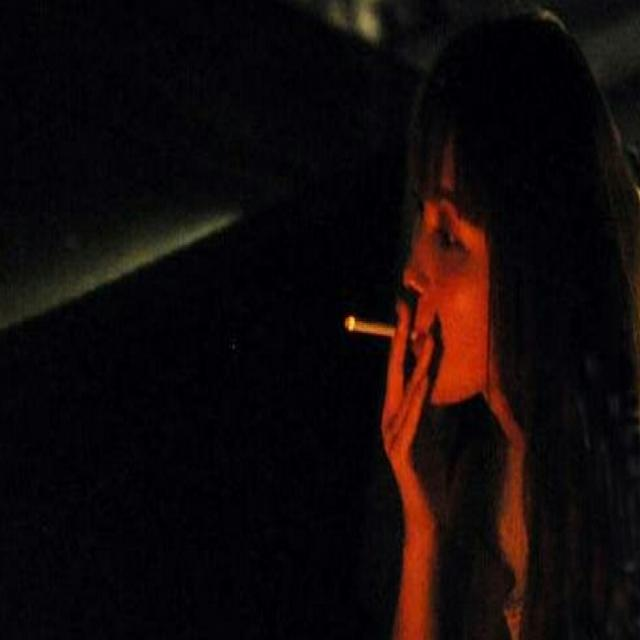smoking: (343, 310, 418, 349)
